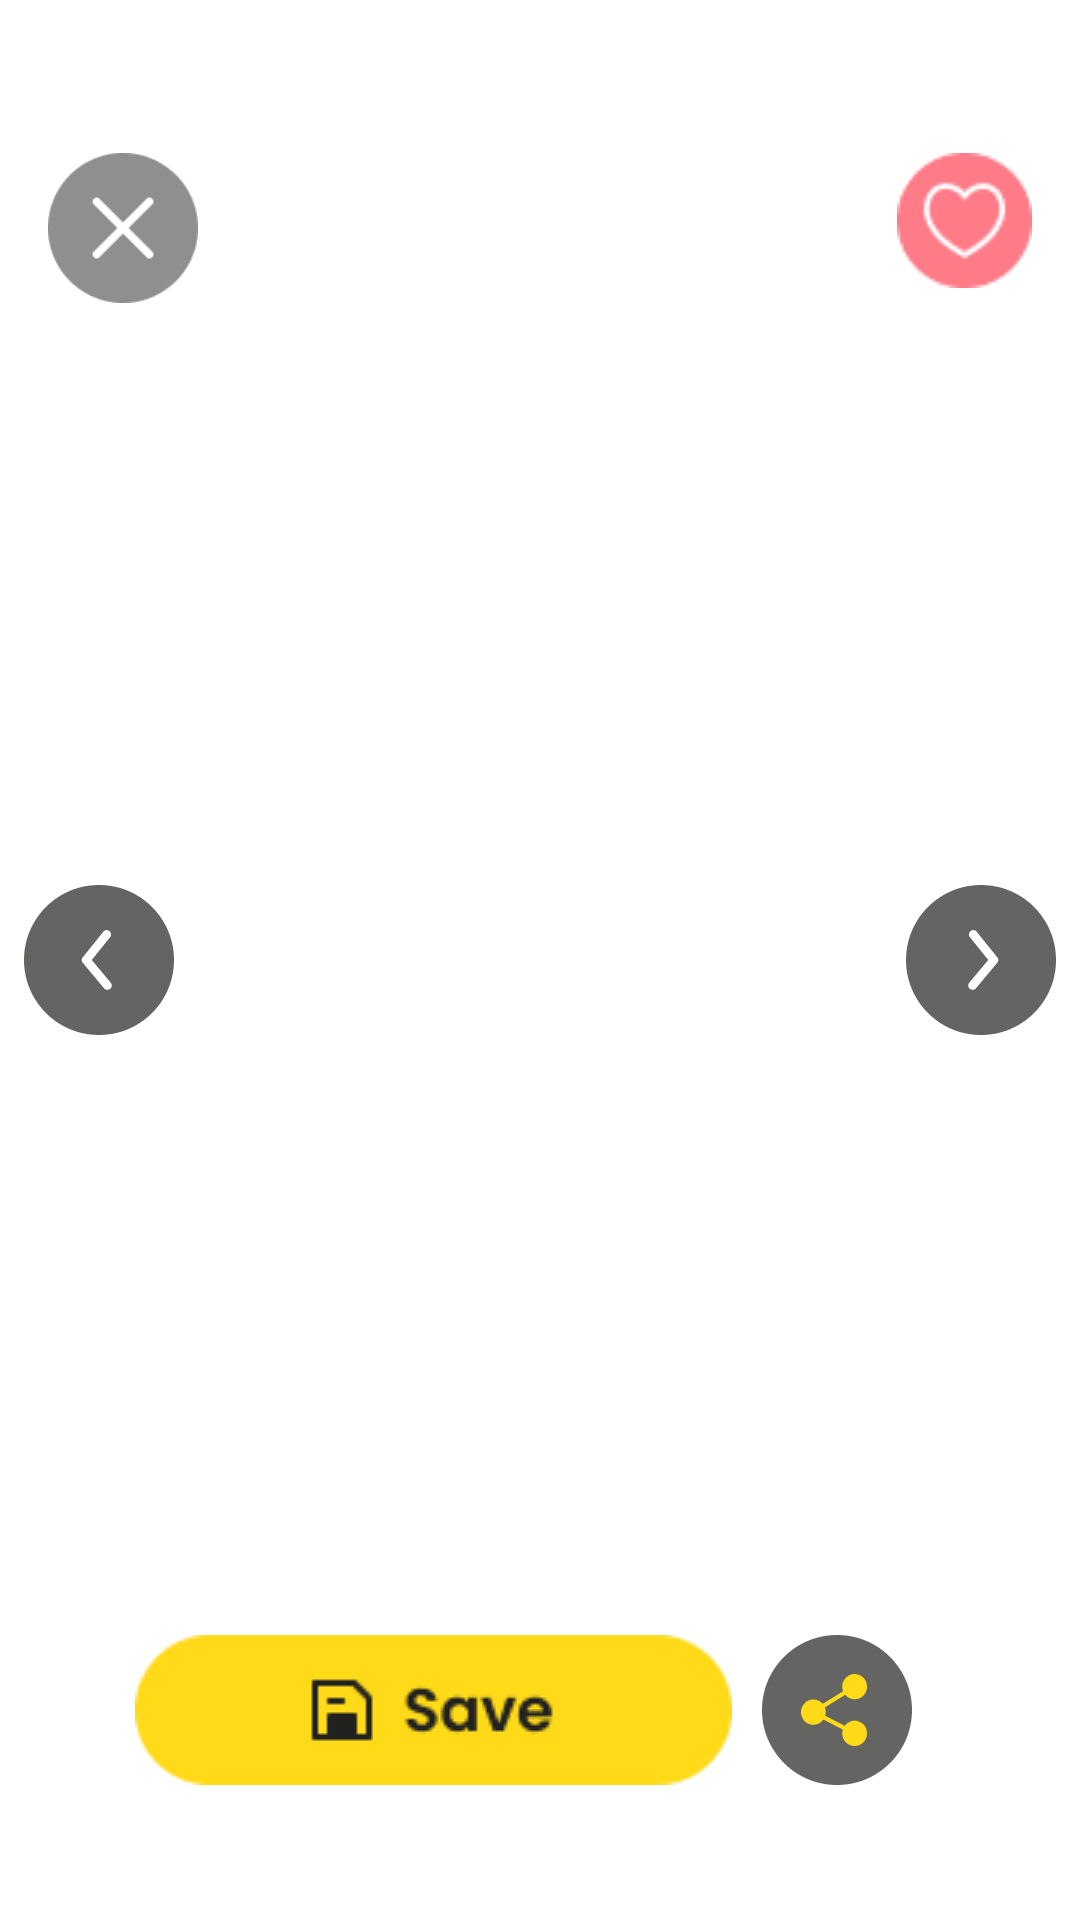

Icon bounding boxes for this 1080w x 1920h phone screenshot, format (x1=x1, y1=y1, x2=x2, y2=y2):
close: (x1=48, y1=153, x2=198, y2=303)
heart unselect max: (x1=897, y1=153, x2=1032, y2=288)
left arrow: (x1=24, y1=885, x2=174, y2=1035)
right arrow: (x1=906, y1=885, x2=1056, y2=1035)
share: (x1=762, y1=1635, x2=912, y2=1785)
